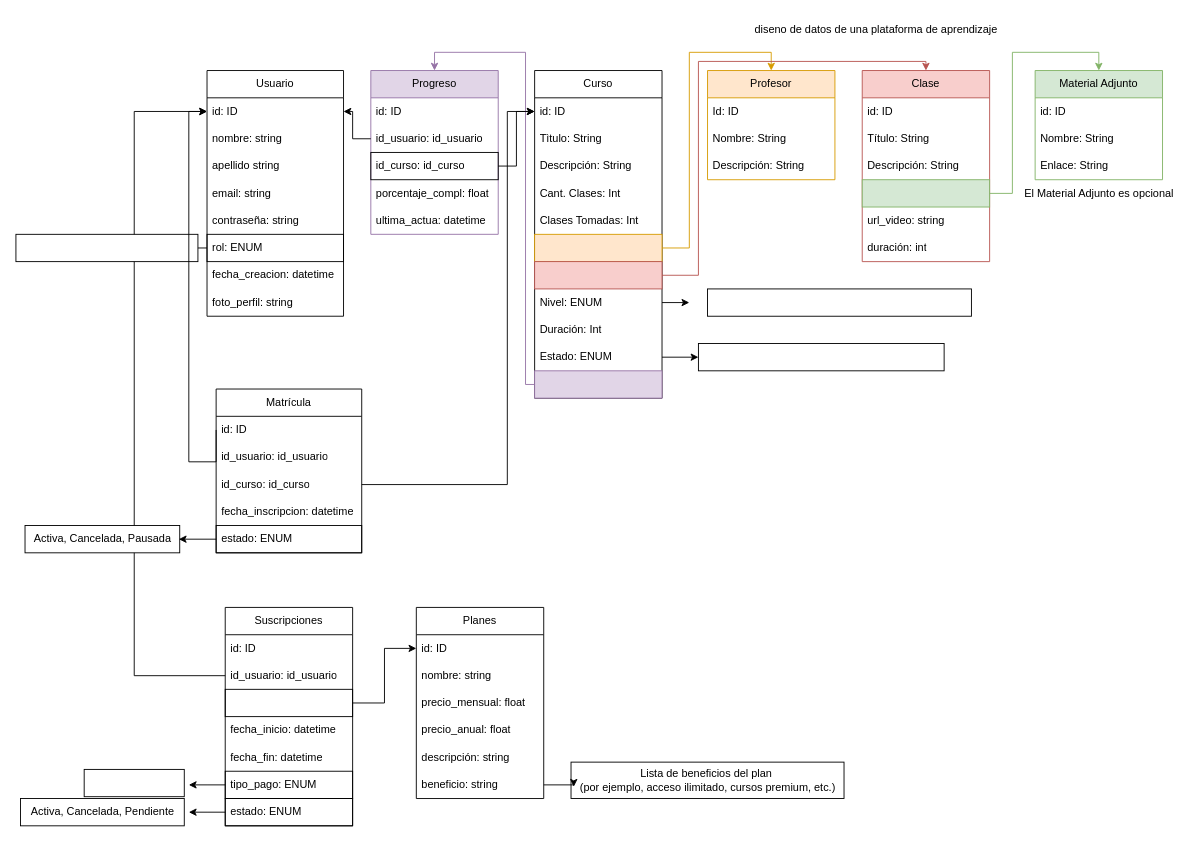
The diagram is 1201 pixels wide and 842 high, and some of its shapes have lost their labels. The shapes that lost their labels are listed below. From the top down, each one's centre as x and y in pixels, then its label:
At pixel 925 193: "Material Adjunto?: M.A.".
At pixel 106 247: "Alumno, Profesor, Administrador".
At pixel 598 247: "Ponente: Ponente".
At pixel 598 275: "Clase: Clase".
At pixel 839 302: "Nivel del curso ( Básico , Intermedio , Avanzado )".
At pixel 821 357: "Estado del curso ( Publicado , No Publicado )".
At pixel 598 384: "progreso: Progreso".
At pixel 288 702: "id_plan: id_plan".
At pixel 133 782: "Mensual, Anual".
